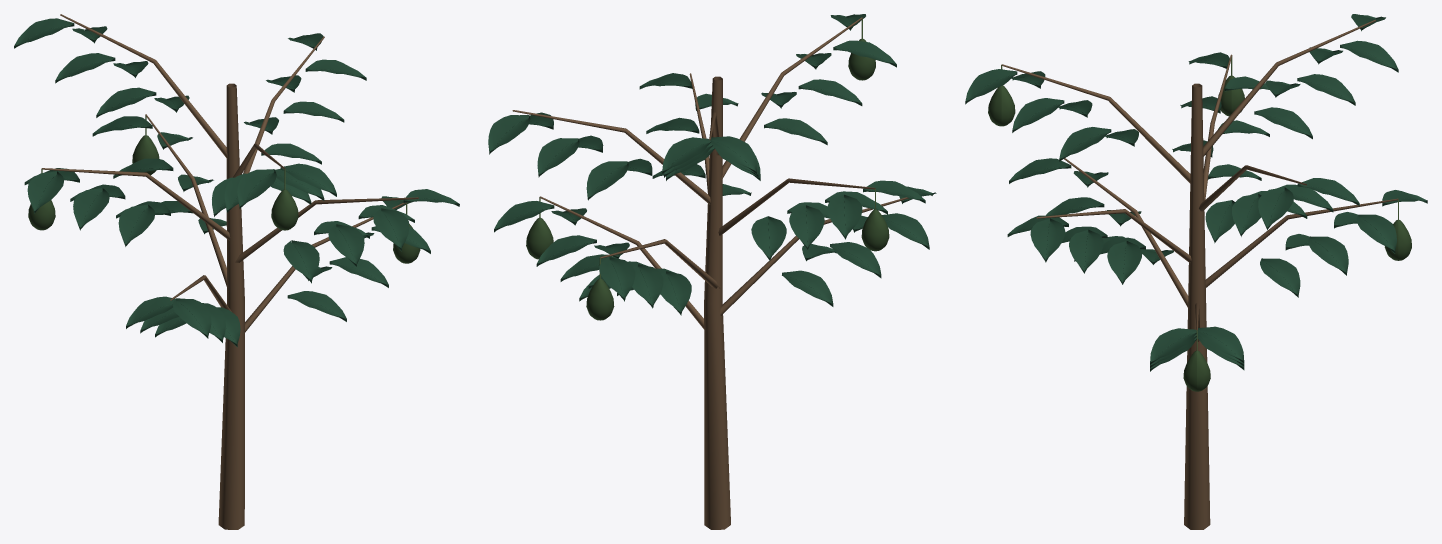
Rendered from aguacate.glb.
3 renders of one model, left to right at view 1: azimuth 30°, elevation 25°; view 2: azimuth 150°, elevation 25°; view 3: azimuth 270°, elevation 25°, orthographic.
Visible parts, largest first — view 1: aguacate; view 2: aguacate; view 3: aguacate.
Part boxes in pixels (box(x1,y1,x2,y2)): aguacate: box(14, 14, 459, 529); aguacate: box(488, 14, 936, 529); aguacate: box(965, 14, 1427, 529).
Bounding box in the file's own units: 2.28 × 2.54 × 2.29.
